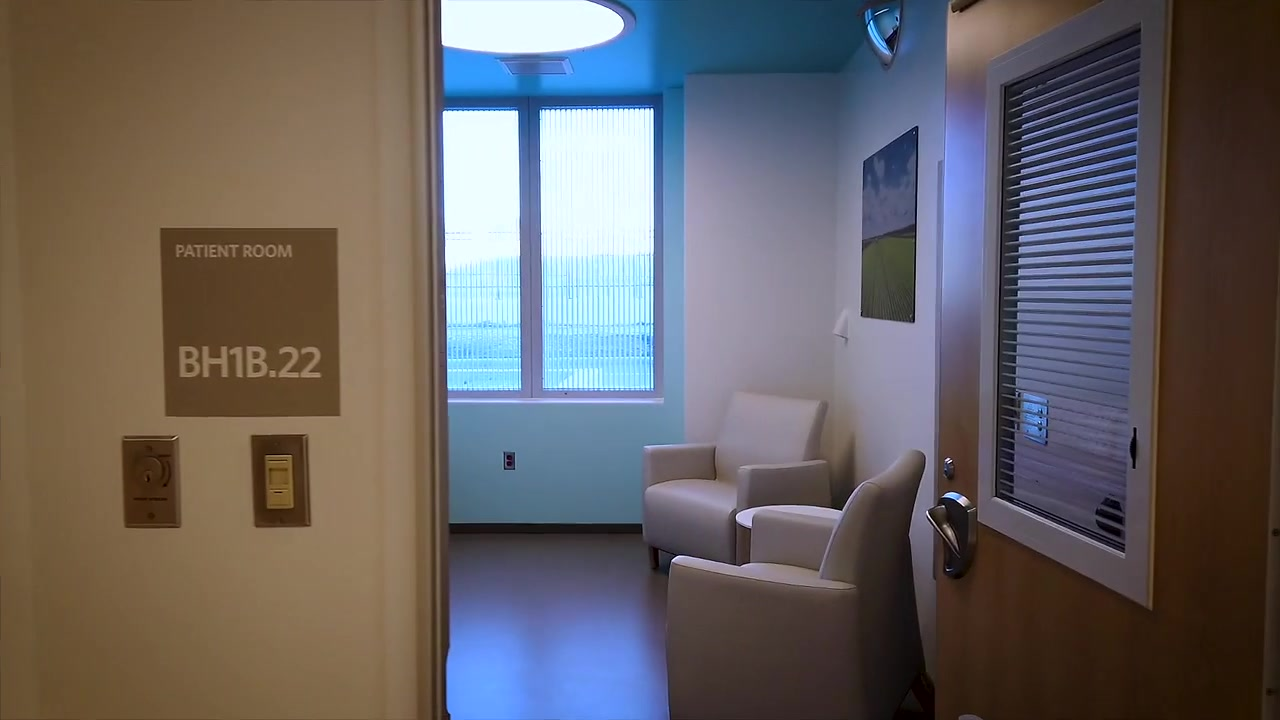door_handle: (924, 494, 980, 587)
sofa: (663, 448, 931, 720), (639, 387, 832, 569)
table: (736, 505, 845, 536)
